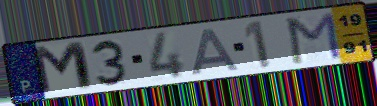1: (243, 18, 273, 71)
3: (90, 38, 128, 88)
4: (147, 30, 189, 81)
A: (190, 26, 244, 77)
M: (28, 39, 98, 97), (285, 11, 344, 66)
